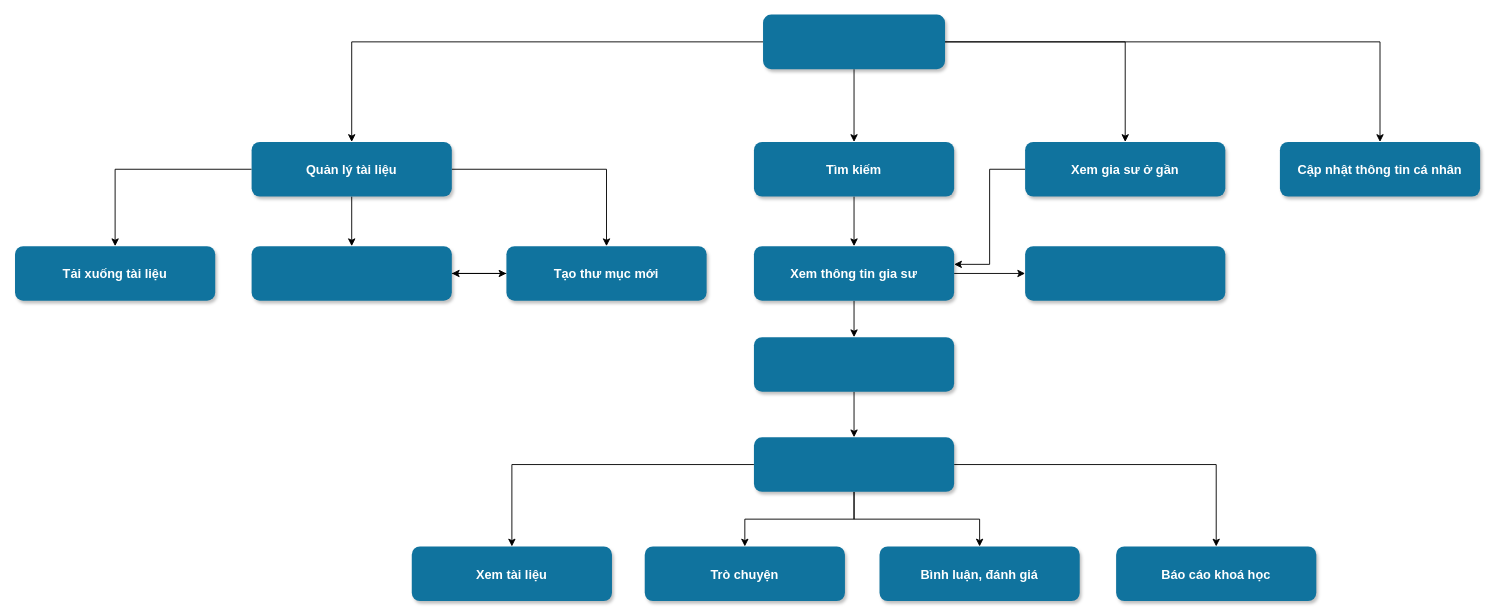
Some shapes in this 1495 by 616 pixel diagram are drawn without their labels. Each missing label, with the centre of its shape:
Bắt đầu: pixel 854 42
Trò chuyện gia sư: pixel 1125 274
Tải lên tài liệu: pixel 352 274
Xem thông tin khoá học: pixel 854 365
Đăng ký khoá học: pixel 854 465
